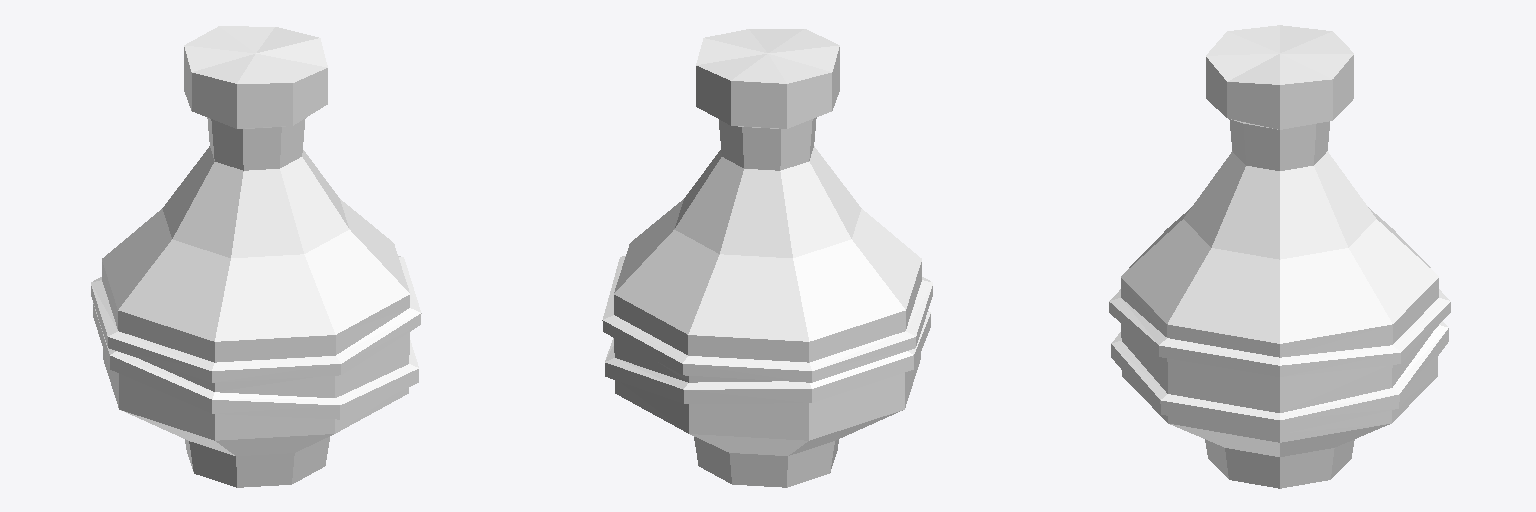
Rendered from HealthUp.obj.
3 views of the same model, side by side, from view 1: azimuth 30°, elevation 25°; view 2: azimuth 150°, elevation 25°; view 3: azimuth 270°, elevation 25° (orthographic).
Visible parts, largest first — view 1: SM_Item_Potion_01_Mesh; view 2: SM_Item_Potion_01_Mesh; view 3: SM_Item_Potion_01_Mesh.
Boxes of the visible parts, x1,y1,x2,y2 form: SM_Item_Potion_01_Mesh: [91, 26, 421, 487]; SM_Item_Potion_01_Mesh: [602, 29, 932, 487]; SM_Item_Potion_01_Mesh: [1109, 25, 1450, 488].
Size of the model in its own units: 4.08 by 5.32 by 4.08.